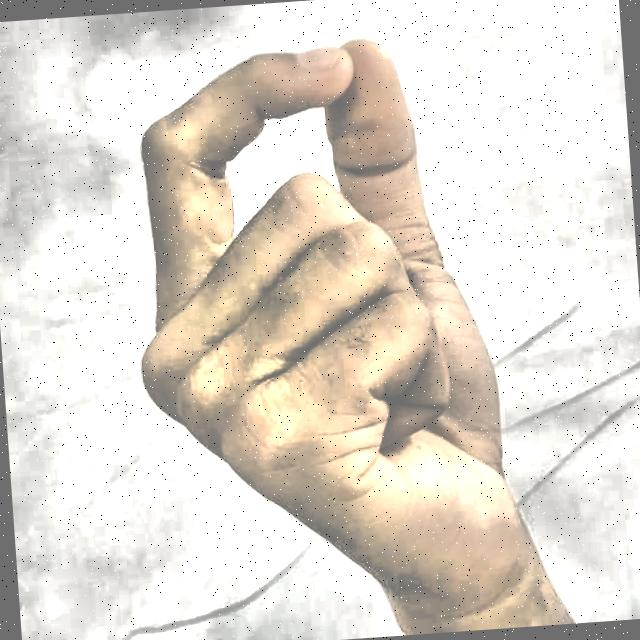Gha: (92, 7, 594, 640)
